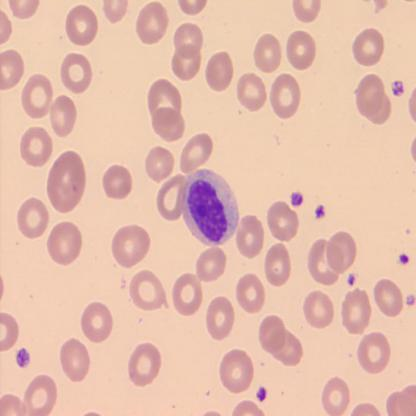Metamyelocyte: (180, 164, 242, 249)
